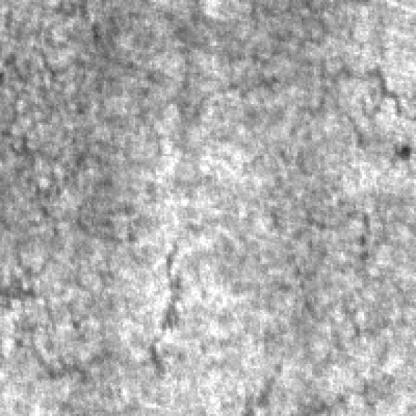crazing: (0, 245, 183, 390), (293, 56, 414, 152)
